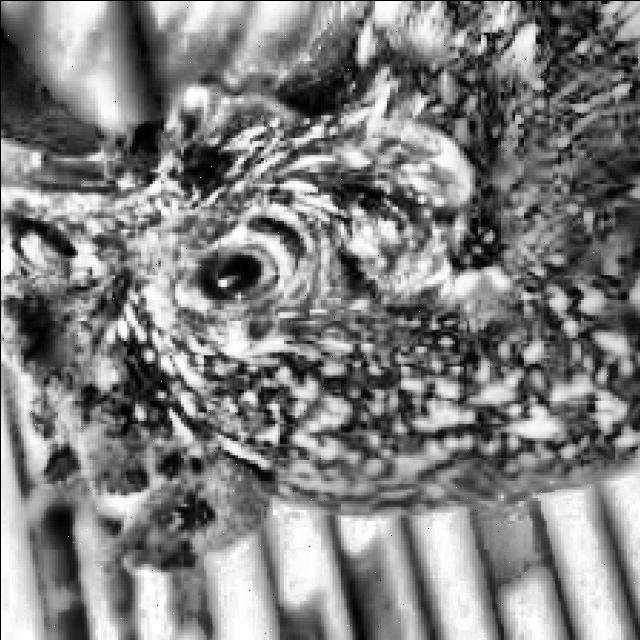Fowlpox: (0, 117, 557, 589)
